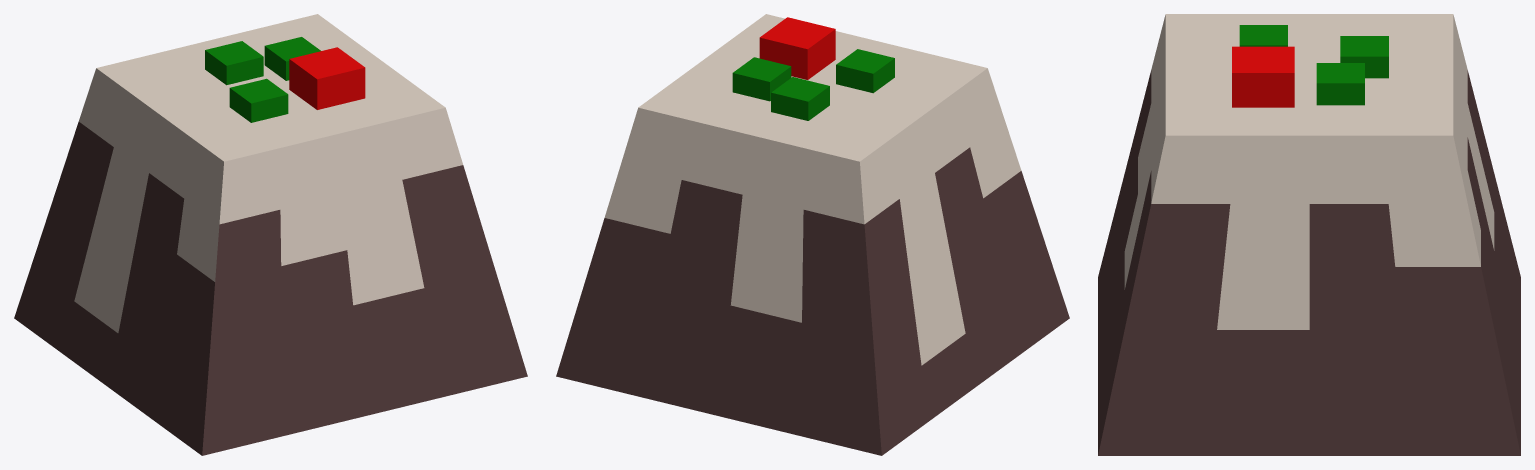
Rendered from 032 Cake.fbx.
3 renders of one model, left to right at view 1: azimuth 30°, elevation 25°; view 2: azimuth 150°, elevation 25°; view 3: azimuth 270°, elevation 25°, orthographic. The views are drawn at different scales.
Parts seen in each view (by area): view 1: Lowpoly_Christmas_Pack_032:pCube6; view 2: Lowpoly_Christmas_Pack_032:pCube6; view 3: Lowpoly_Christmas_Pack_032:pCube6.
Boxes of the visible parts, <box> form: Lowpoly_Christmas_Pack_032:pCube6: <box>14,14,527,455</box>; Lowpoly_Christmas_Pack_032:pCube6: <box>556,14,1069,455</box>; Lowpoly_Christmas_Pack_032:pCube6: <box>1098,14,1520,455</box>.
Bounding box in the file's own units: 2 × 1.7 × 2.
